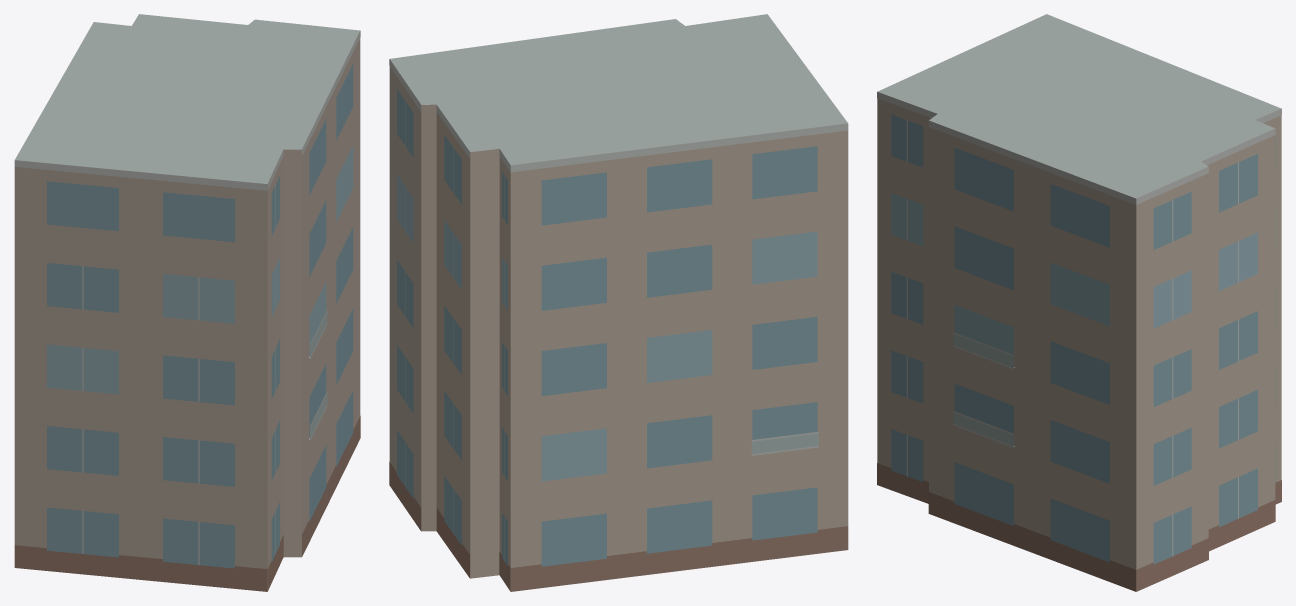
Rendered from survey-upis-32882890.glb.
3 renders of one model, left to right at view 1: azimuth 30°, elevation 25°; view 2: azimuth 150°, elevation 25°; view 3: azimuth 270°, elevation 25°, orthographic. The views are drawn at different scales.
Parts seen in each view (by area): view 1: survey-upis-32882890.tmp; view 2: survey-upis-32882890.tmp; view 3: survey-upis-32882890.tmp.
Boxes of the visible parts, x1,y1,x2,y2 form: survey-upis-32882890.tmp: (14,14,360,591); survey-upis-32882890.tmp: (389,14,848,591); survey-upis-32882890.tmp: (877,14,1281,591).
Bounding box in the file's own units: 14.9 × 14.8 × 13.8.
